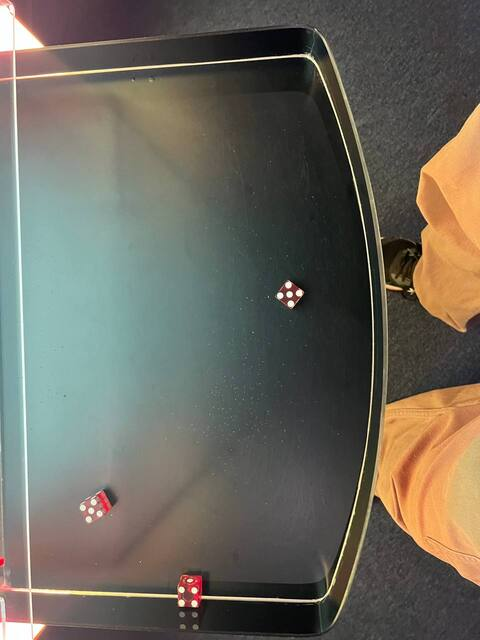five: (272, 277, 307, 312), (74, 493, 109, 528)
four: (174, 582, 202, 611)
